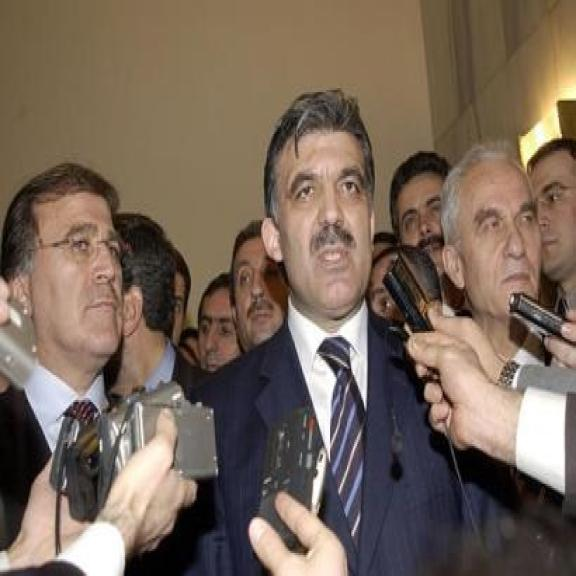face: (260, 126, 376, 317), (10, 193, 127, 378), (444, 162, 546, 324), (388, 161, 446, 286), (231, 232, 287, 354), (534, 144, 576, 287), (196, 281, 240, 378)
